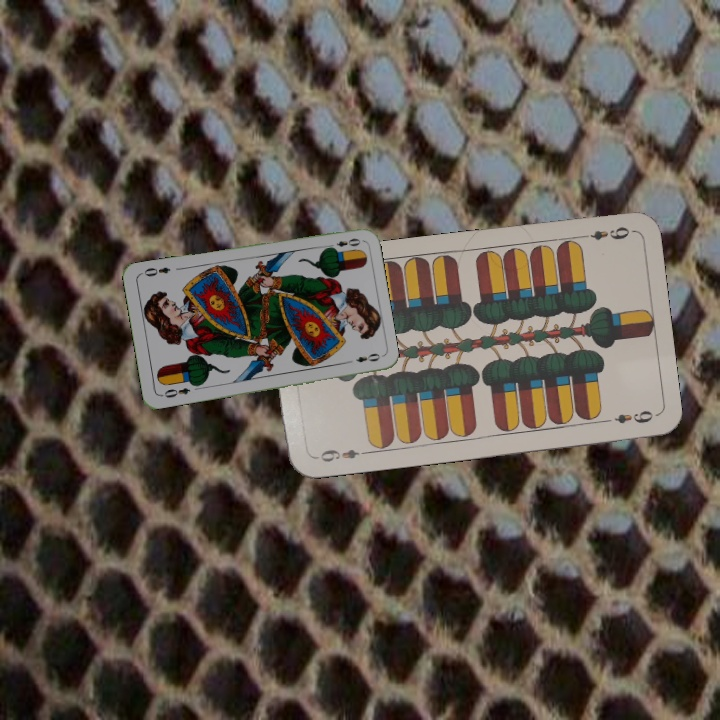E9: (309, 445, 369, 465), (575, 223, 632, 243)
EO: (323, 234, 363, 252), (157, 384, 193, 400)
